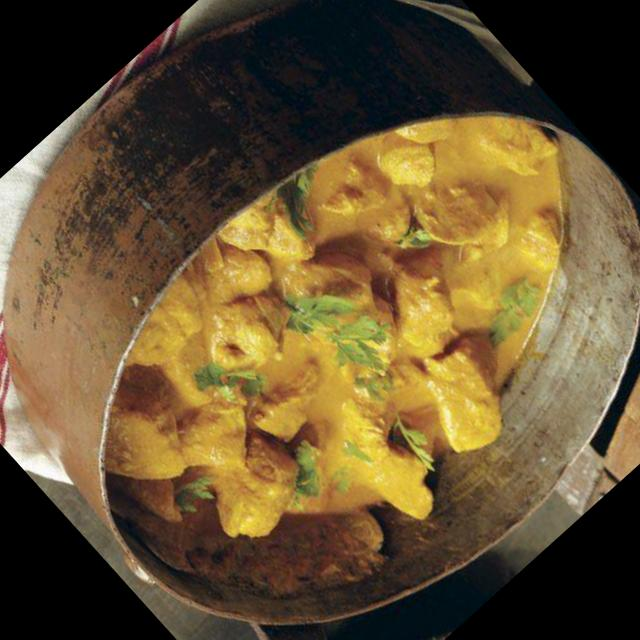chicken: (67, 57, 640, 630)
